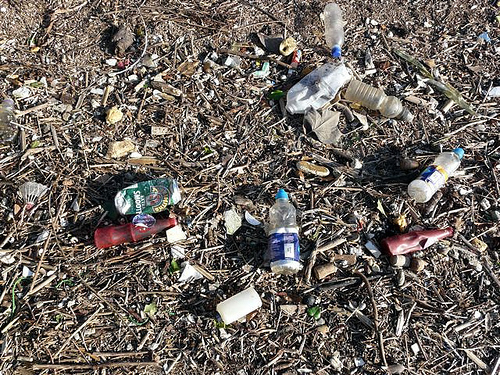litter: (281, 60, 353, 112), (409, 146, 464, 201), (345, 78, 413, 122), (267, 189, 300, 276), (111, 176, 177, 214), (94, 218, 175, 246), (380, 227, 453, 252), (217, 287, 261, 325), (324, 3, 345, 56)
